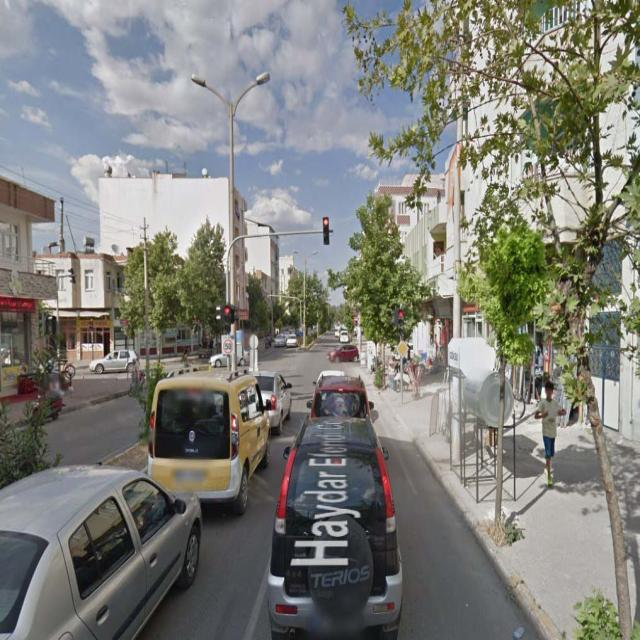kirmizi: (397, 310, 404, 340), (322, 217, 329, 246), (223, 306, 230, 334)
